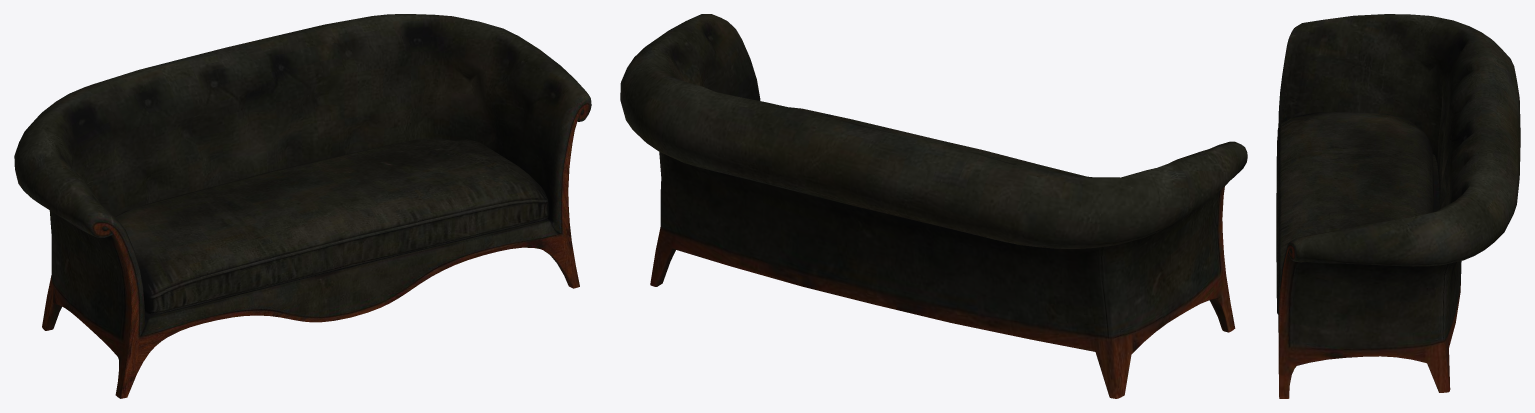
The model's file is sofa_02.glb.
3 renders of one model, left to right at view 1: azimuth 30°, elevation 25°; view 2: azimuth 150°, elevation 25°; view 3: azimuth 270°, elevation 25°, orthographic. The views are drawn at different scales.
Visible parts, largest first — view 1: sofa_02_Base, sofa_02_Seat; view 2: sofa_02_Base, sofa_02_Seat; view 3: sofa_02_Base, sofa_02_Seat.
Part boxes in pixels (x1,y1,x2,y2): sofa_02_Base: (14,14,591,398); sofa_02_Seat: (115,139,549,314); sofa_02_Base: (620,14,1247,398); sofa_02_Seat: (789,107,1086,176); sofa_02_Base: (1278,14,1520,398); sofa_02_Seat: (1276,112,1433,314).
Size of the model in its own units: 1.81 by 0.7095 by 0.8178.
1 material, 1 textured.
